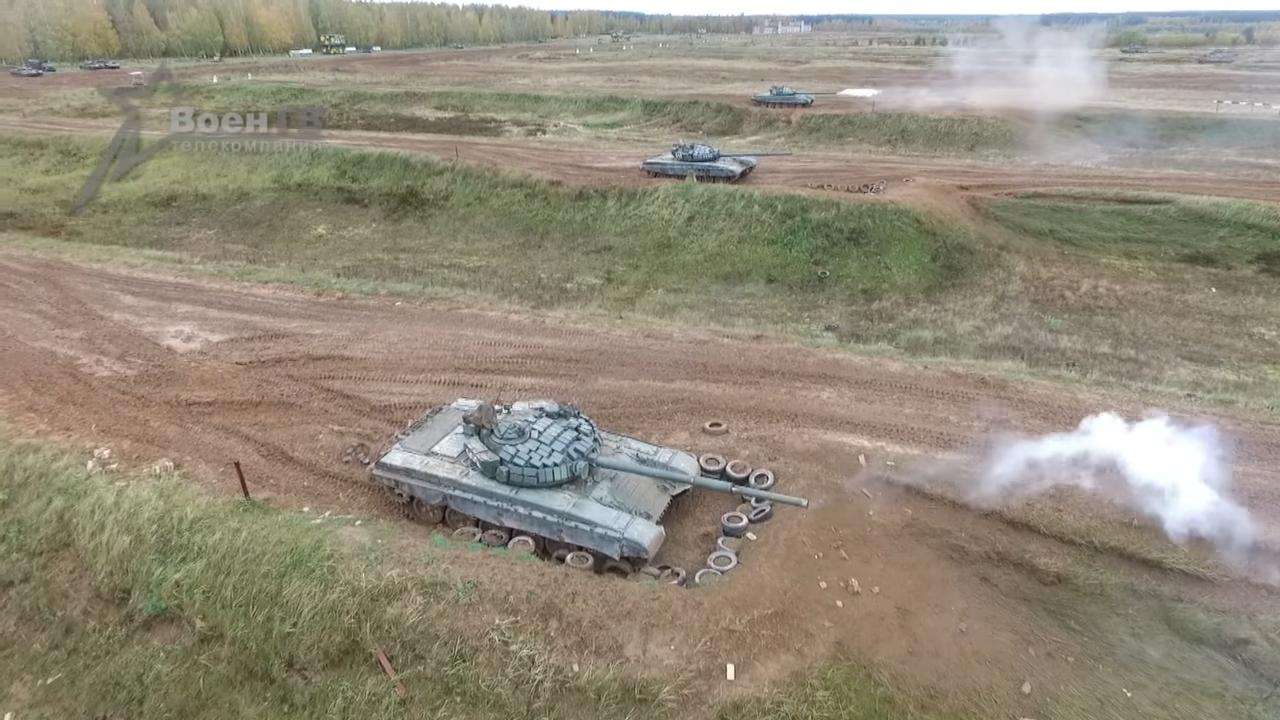tank: (373, 397, 810, 583), (639, 143, 794, 184), (753, 86, 838, 109)
